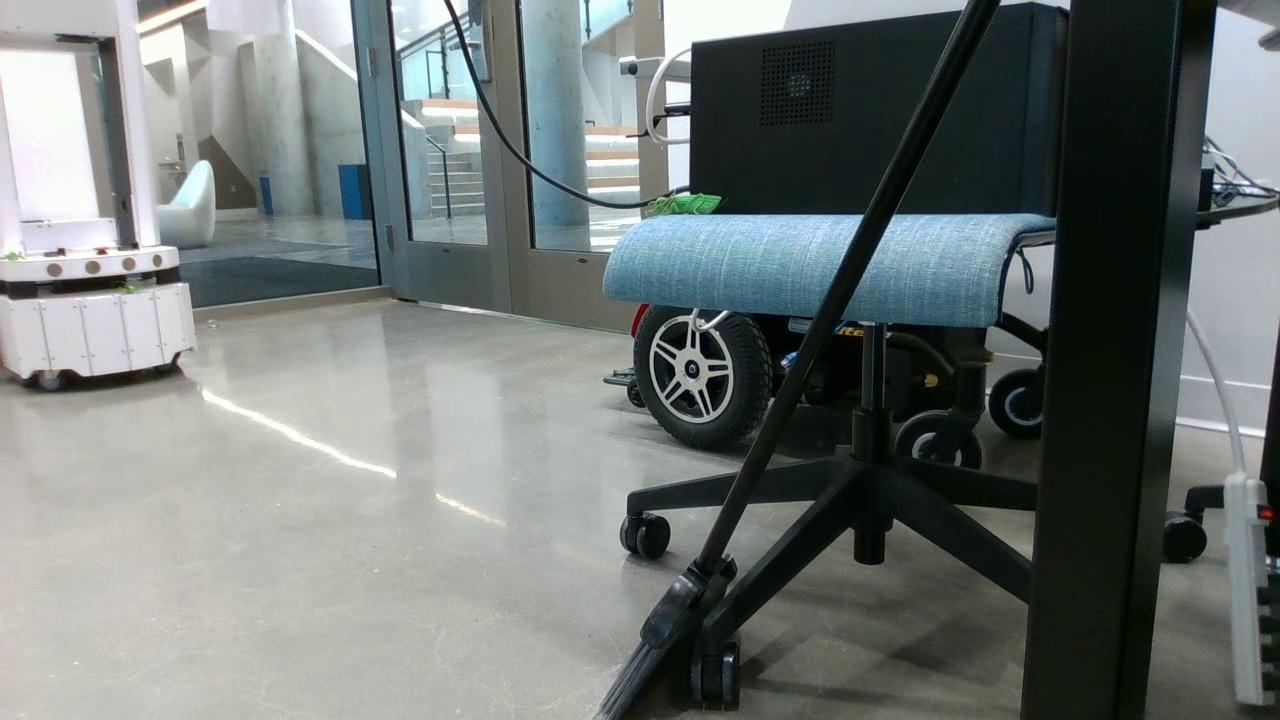grasshopper: (652, 194, 724, 216)
